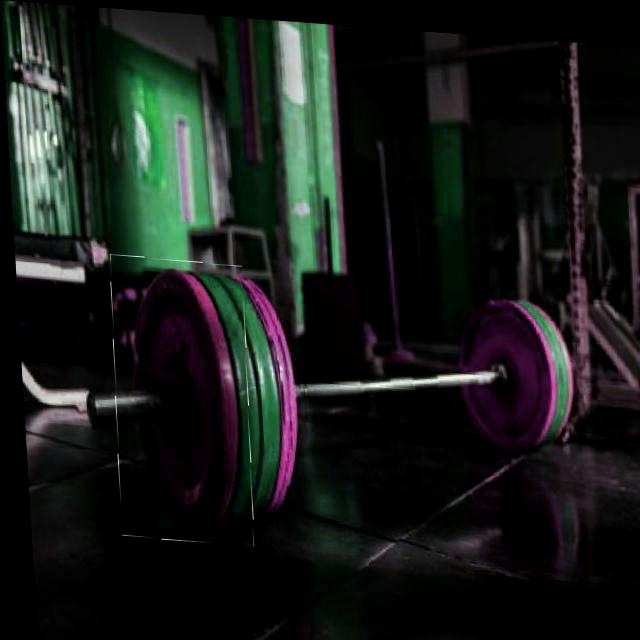barbell: (103, 253, 252, 544)
